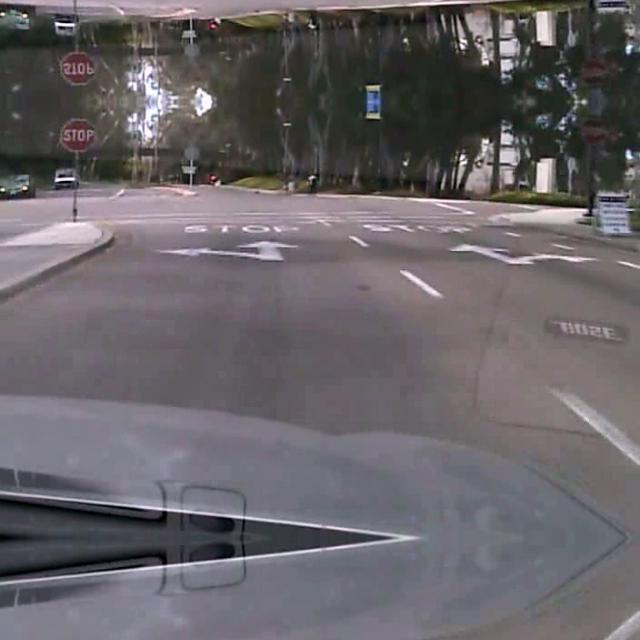stop: (59, 116, 95, 150), (59, 52, 95, 86)
